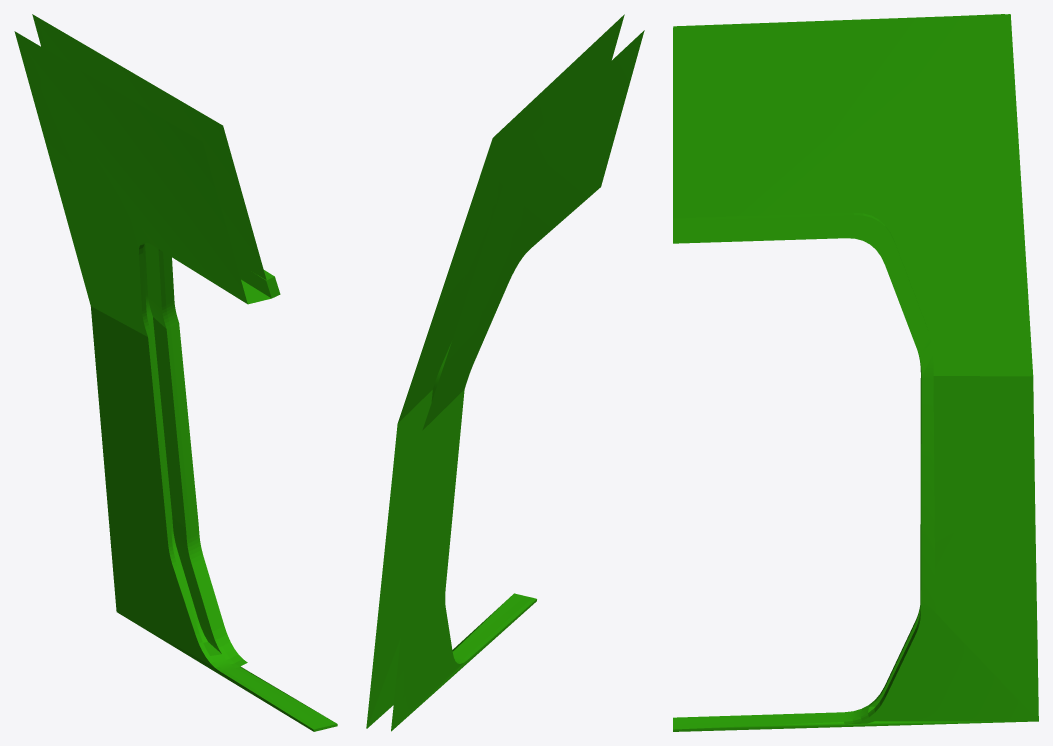
File: Module_PetitEncadrement_Porte_Droite.fbx
3 renders of one model, left to right at view 1: azimuth 30°, elevation 25°; view 2: azimuth 150°, elevation 25°; view 3: azimuth 270°, elevation 25°, orthographic. The views are drawn at different scales.
Visible parts, largest first — view 1: Object109; view 2: Object109; view 3: Object109.
Part boxes in pixels (bbox=[...]): Object109: bbox=[14, 14, 337, 731]; Object109: bbox=[366, 14, 644, 731]; Object109: bbox=[673, 14, 1038, 731].
Bounding box in the file's own units: 83.09 × 309 × 157.
